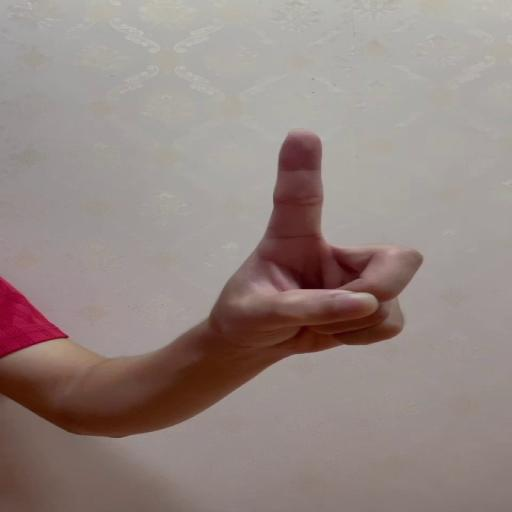point: (252, 126, 426, 350)
